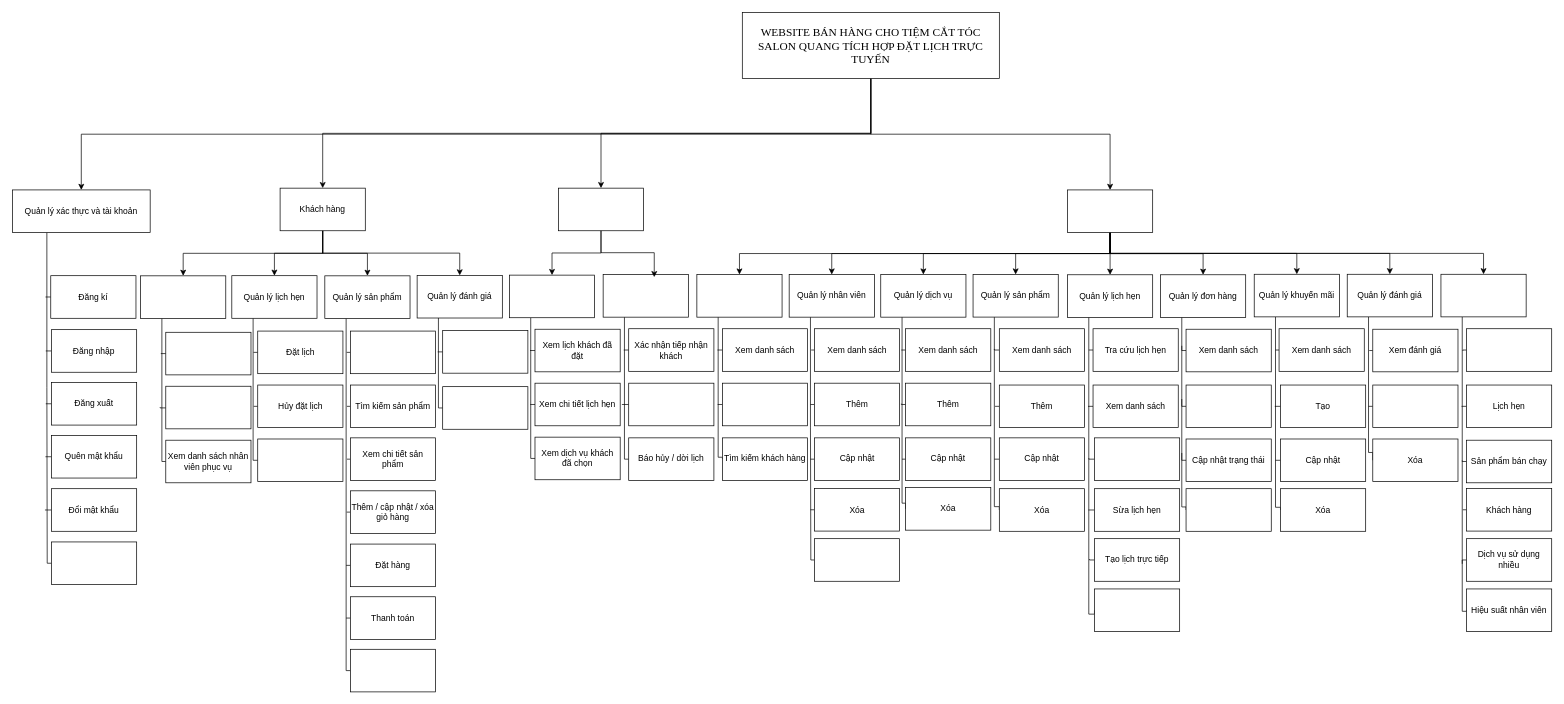
This 1564x704 diagram has some shape labels left out. The centre of each missing label's shape, as x and y in pixels:
"Admin" belongs at pixel 1110 211.
"Cập nhật thông tin cá nhân" belongs at pixel 94 563.
"Doanh thu" belongs at pixel 1509 349.
"Hủy" belongs at pixel 1228 509.
"Hủy lịch hẹn" belongs at pixel 1137 610.
"Nhân viên" belongs at pixel 601 209.
"Phản hồi" belongs at pixel 1415 406.
"Quản lý khách hàng" belongs at pixel 739 295.
"Quản lý lịch phục vụ" belongs at pixel 552 296.
"Quản lý trạng thái phục vụ" belongs at pixel 645 295.
"Quản lý trạng thái tài khoản" belongs at pixel 765 404.
"Quản lý tìm kiếm" belongs at pixel 183 296.
"Thống kê báo cáo" belongs at pixel 1483 295.
"Tìm kiếm" belongs at pixel 857 559.
"Xem chi tiết dịch vụ" belongs at pixel 208 407.
"Xem danh sách dịch vụ" belongs at pixel 208 353.
"Xem danh sách sản phẩm" belongs at pixel 393 352.
"Xem lịch sử lịch hẹn" belongs at pixel 300 460.
"Xem lịch sử đơn hàng" belongs at pixel 393 670.
"Xác nhận" belongs at pixel 1228 406.
"Xác nhận hoàn thành dịch vụ" belongs at pixel 671 404.
"Xác nhận lịch hẹn" belongs at pixel 1137 458.
"Đánh giá dịch vụ" belongs at pixel 485 407.
"Đánh giá sản phẩm" belongs at pixel 485 351.
